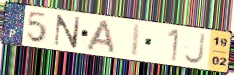1: (167, 29, 180, 64)
5: (25, 10, 50, 44)
A: (84, 18, 117, 55)
I: (129, 22, 144, 59)
J: (182, 31, 207, 66)
N: (52, 13, 82, 50)
